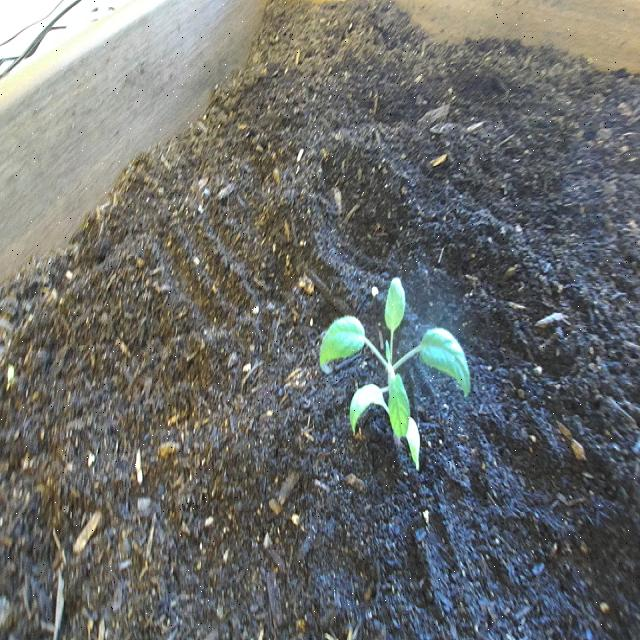Healthy: (317, 272, 473, 480)
